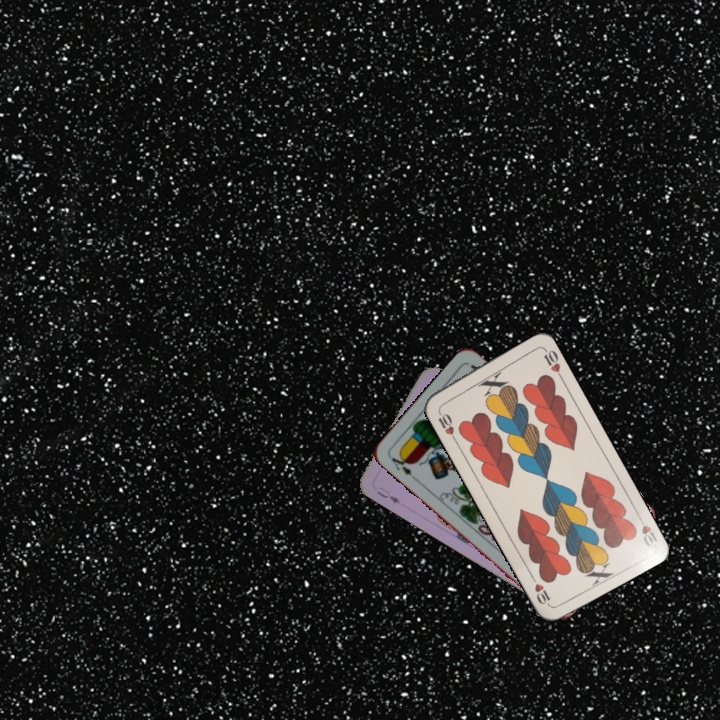EA: (387, 450, 419, 483)
EU: (373, 484, 403, 506)
H10: (633, 510, 660, 550), (434, 405, 459, 443)
